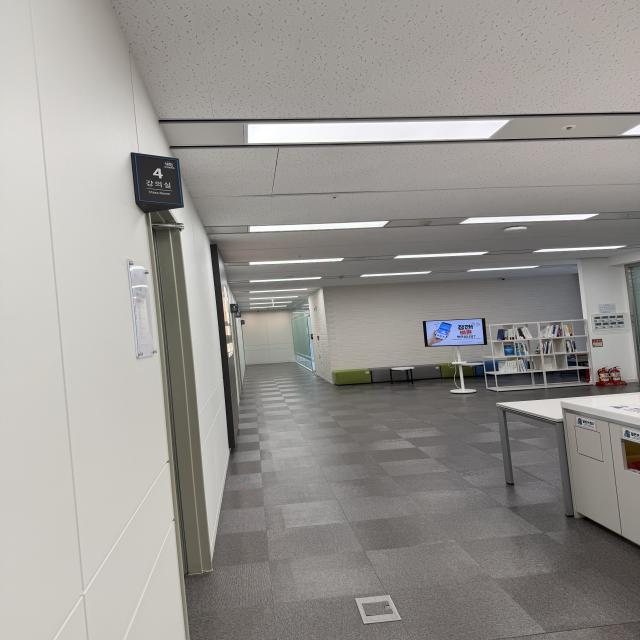room4: (131, 153, 183, 212)
